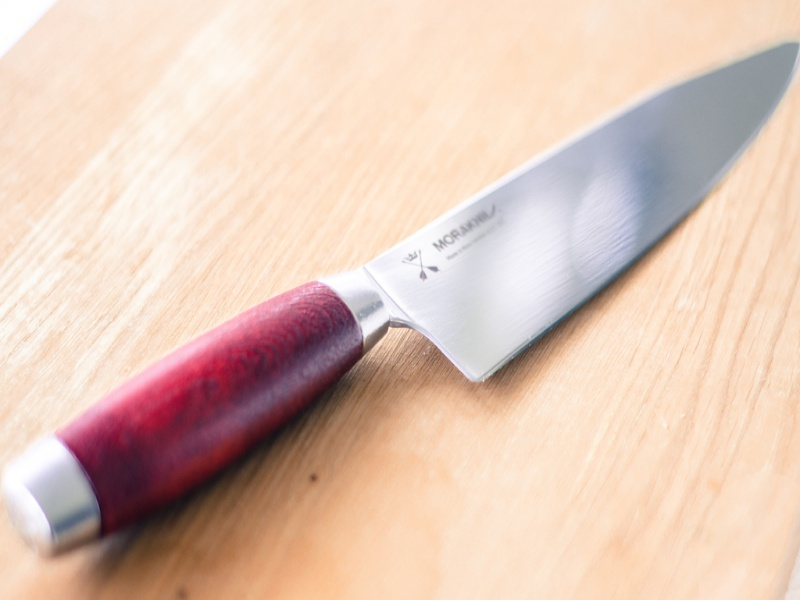knife: (5, 36, 799, 555)
